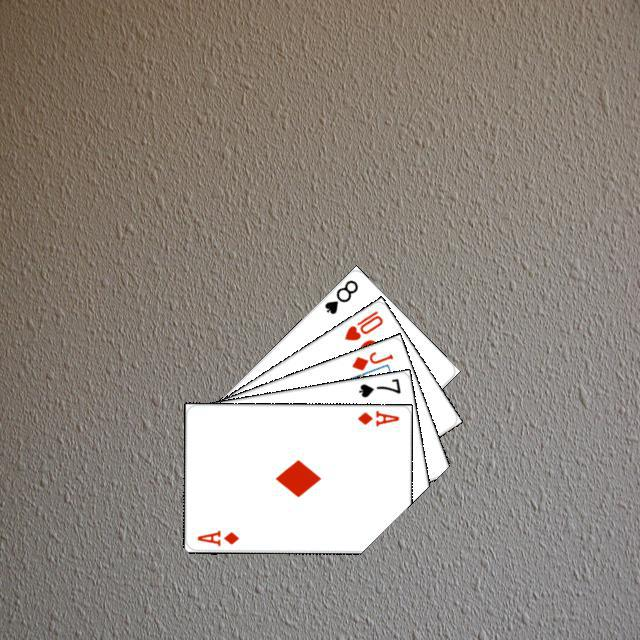10h: (339, 306, 385, 342)
7s: (354, 373, 402, 399)
8s: (319, 275, 360, 316)
Ad: (353, 406, 401, 428), (192, 526, 240, 548)
Jd: (347, 347, 395, 372)
